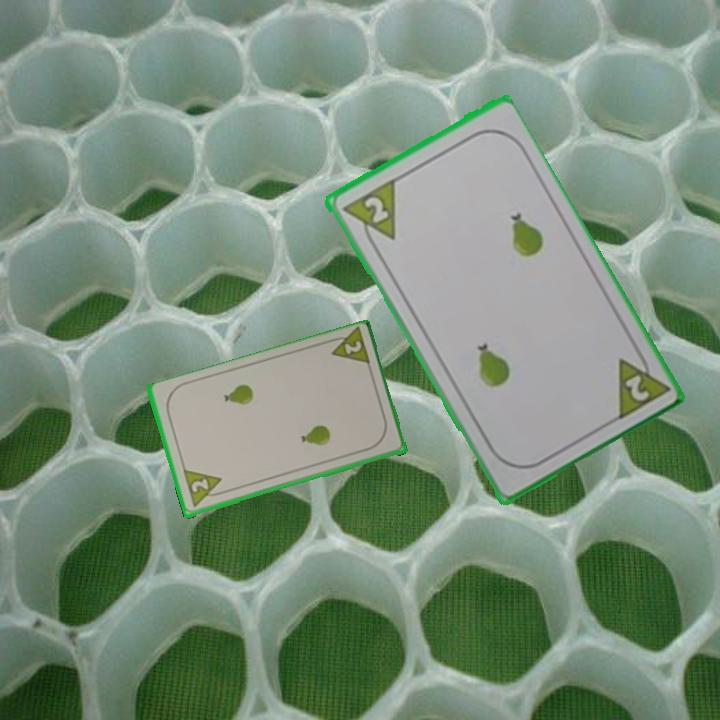2p: (611, 343, 670, 424), (337, 176, 399, 253), (323, 326, 373, 370), (179, 467, 228, 511)
